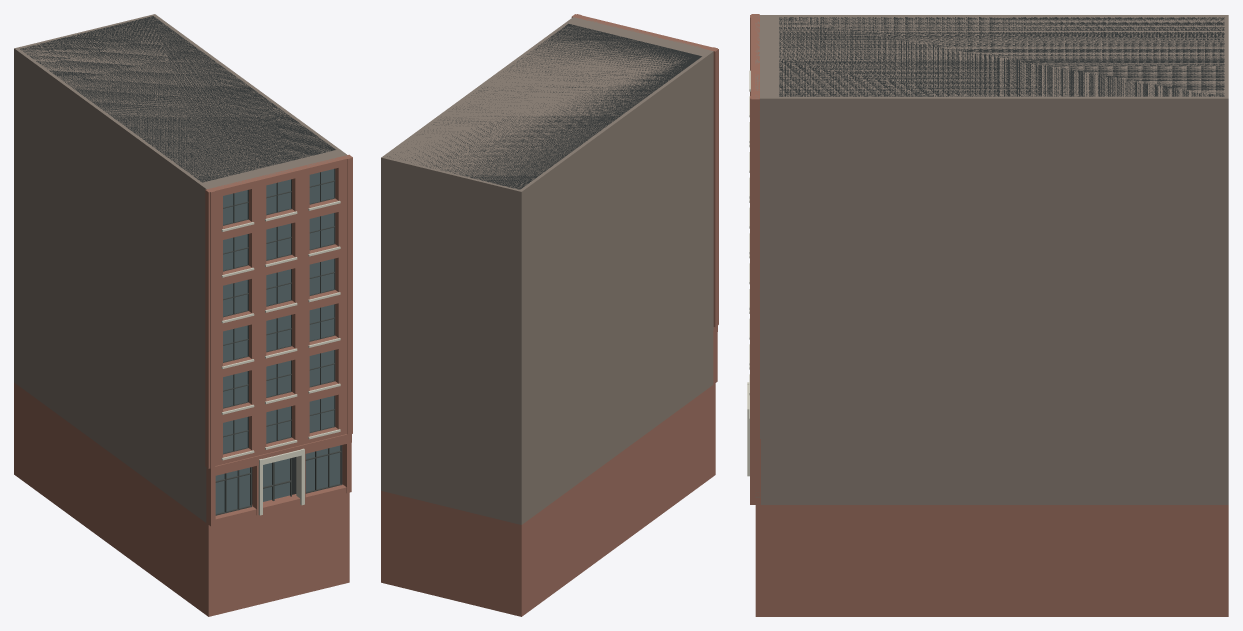
File: west_washington_166.glb
3 renders of one model, left to right at view 1: azimuth 30°, elevation 25°; view 2: azimuth 150°, elevation 25°; view 3: azimuth 270°, elevation 25°, orthographic. The views are drawn at different scales.
Parts seen in each view (by area): view 1: Unsurveyed party and rear masonry, Red brick piers and spandrels, Opaque interior backing, Separate recessed opaque window panes, Physical dark sash and storefront frames, Pale projecting panels and stone; view 2: Unsurveyed party and rear masonry, Red brick piers and spandrels, Opaque interior backing; view 3: Unsurveyed party and rear masonry, Red brick piers and spandrels, Opaque interior backing.
Boxes of the visible parts, left/top/right/bottom form: Unsurveyed party and rear masonry: left=14, top=14, right=346, bottom=522; Red brick piers and spandrels: left=14, top=154, right=352, bottom=616; Opaque interior backing: left=20, top=16, right=335, bottom=504; Separate recessed opaque window panes: left=215, top=169, right=340, bottom=513; Physical dark sash and storefront frames: left=215, top=169, right=342, bottom=515; Pale projecting panels and stone: left=221, top=201, right=340, bottom=515; Unsurveyed party and rear masonry: left=381, top=17, right=713, bottom=524; Red brick piers and spandrels: left=381, top=14, right=718, bottom=616; Opaque interior backing: left=387, top=23, right=701, bottom=189; Unsurveyed party and rear masonry: left=755, top=15, right=1228, bottom=504; Red brick piers and spandrels: left=750, top=14, right=1228, bottom=616; Opaque interior backing: left=779, top=17, right=1224, bottom=96.
Size of the model in its own units: 13.08 by 37 by 31.12.
